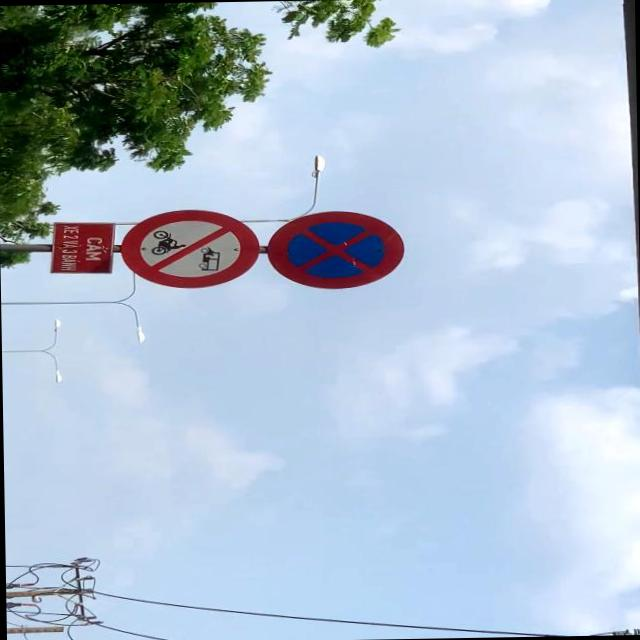P-104: (122, 208, 258, 288)
P-130: (270, 208, 406, 290)
